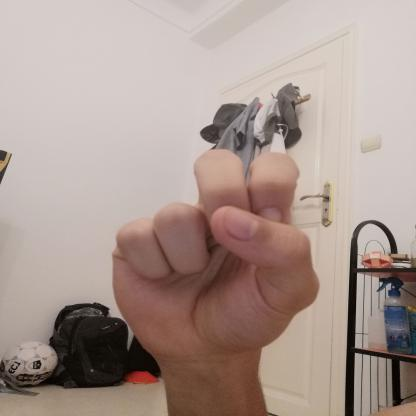QAAF: (92, 136, 330, 372)
